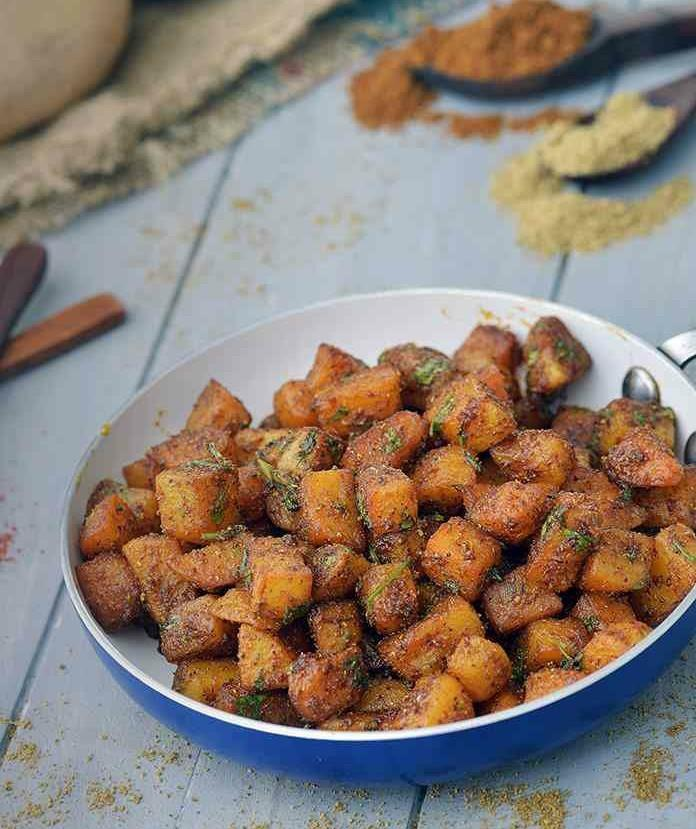AlooMasala: (78, 313, 696, 734)
